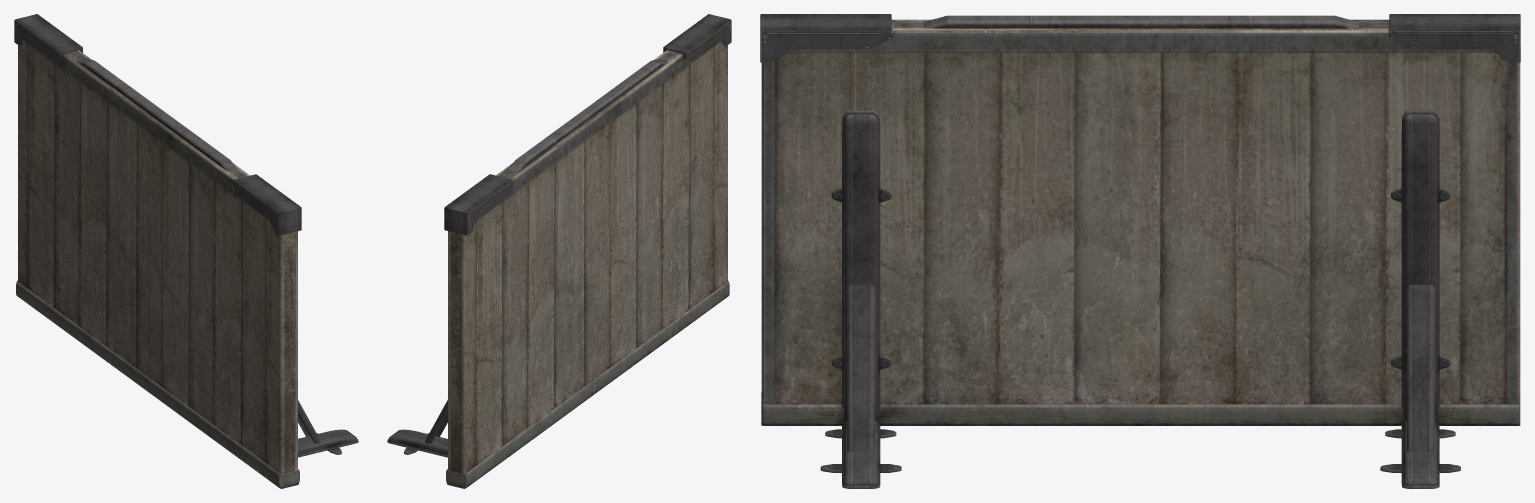
The model's file is prop_wallPanel_A.fbx.
The picture shows the model from 3 angles, left to right: view 1: azimuth 30°, elevation 25°; view 2: azimuth 150°, elevation 25°; view 3: azimuth 270°, elevation 25°; orthographic projection. The views are drawn at different scales.
Parts seen in each view (by area): view 1: prop_wallPanel_A; view 2: prop_wallPanel_A; view 3: prop_wallPanel_A.
Part boxes in pixels (x1,y1,x2,y2): prop_wallPanel_A: [14, 14, 358, 488]; prop_wallPanel_A: [387, 14, 731, 488]; prop_wallPanel_A: [760, 14, 1520, 488].
Bounding box in the file's own units: 96.39 × 234 × 401.
